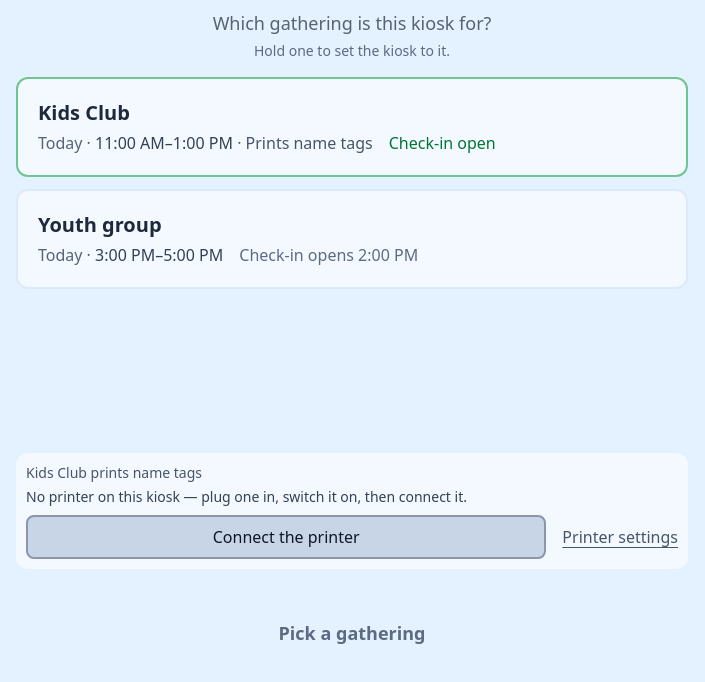
Scenario: the printer strip › drops the buttons for a volunteer whose gathering prints nothing
The width and height of the screenshot is (705, 682).
Press the mouse on the button "Youth group" at (100, 224), box x1=16 y1=189 x2=688 y2=289
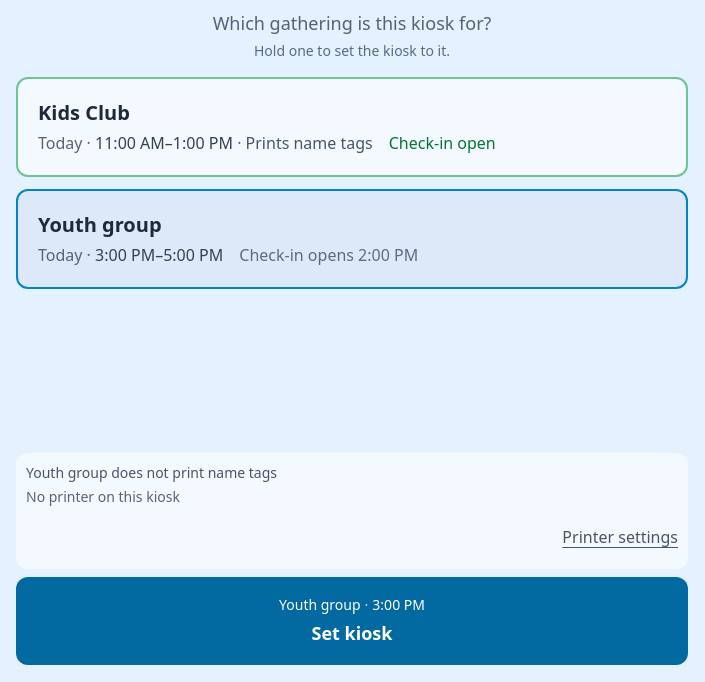
Expected: the text "No printer on this kiosk" is shown, x1=26 y1=487 x2=180 y2=506
Now the text "Youth group does not print name tags" is shown, box x1=26 y1=463 x2=277 y2=482
Now the button "Connect the printer" is gone
